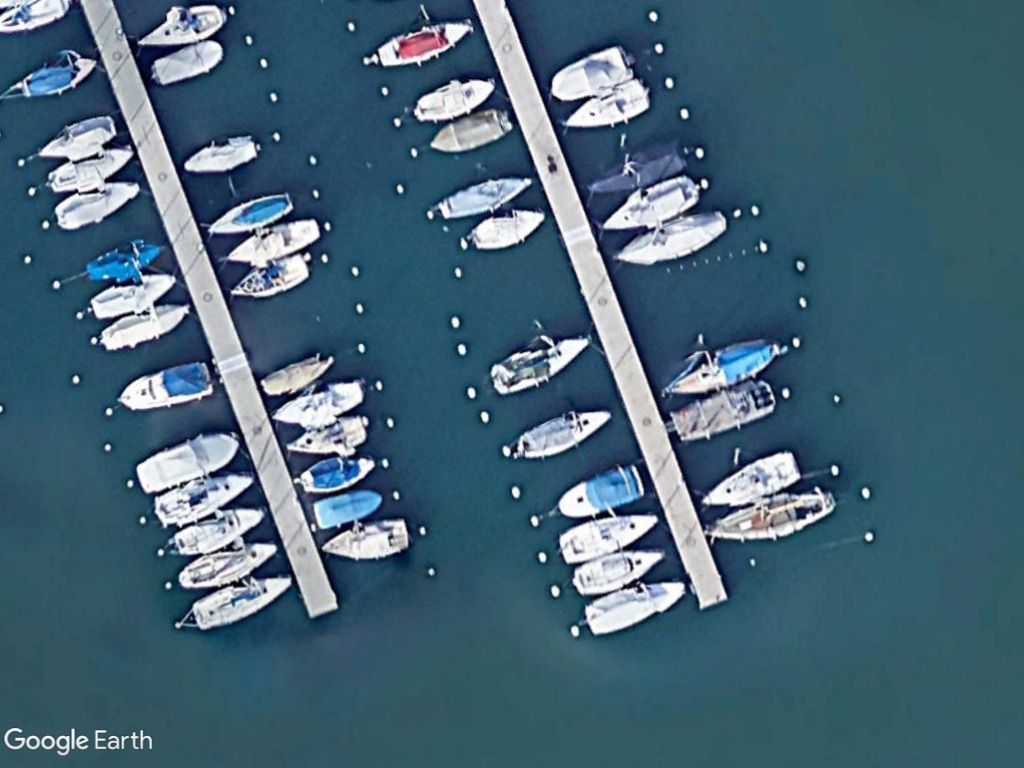boat: (655, 335, 785, 399), (706, 484, 840, 546), (667, 375, 778, 442), (597, 173, 702, 241), (614, 208, 731, 269), (134, 430, 240, 497), (488, 332, 592, 399), (698, 448, 802, 515), (582, 577, 688, 638), (511, 403, 616, 462), (554, 509, 660, 566), (154, 470, 255, 529), (189, 574, 294, 630), (588, 140, 686, 199), (561, 73, 655, 133), (166, 504, 268, 558), (117, 357, 210, 416), (373, 18, 478, 70), (554, 462, 645, 521), (176, 539, 279, 591), (270, 376, 367, 431), (548, 44, 636, 104), (568, 548, 667, 601), (98, 299, 192, 354), (437, 169, 530, 224), (224, 216, 322, 266), (54, 177, 141, 232), (33, 112, 119, 167), (46, 142, 135, 195), (203, 189, 293, 241), (0, 54, 95, 103), (135, 3, 228, 53), (227, 250, 313, 304), (319, 515, 410, 564), (87, 270, 174, 320), (410, 76, 497, 126), (285, 410, 369, 459), (428, 107, 512, 156), (298, 450, 379, 497), (258, 352, 337, 400), (151, 37, 224, 86), (83, 240, 162, 285), (181, 130, 258, 176), (467, 208, 548, 250), (312, 483, 385, 529)
